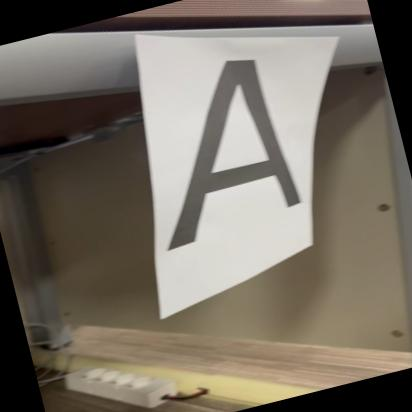seat: (120, 40, 327, 250)
